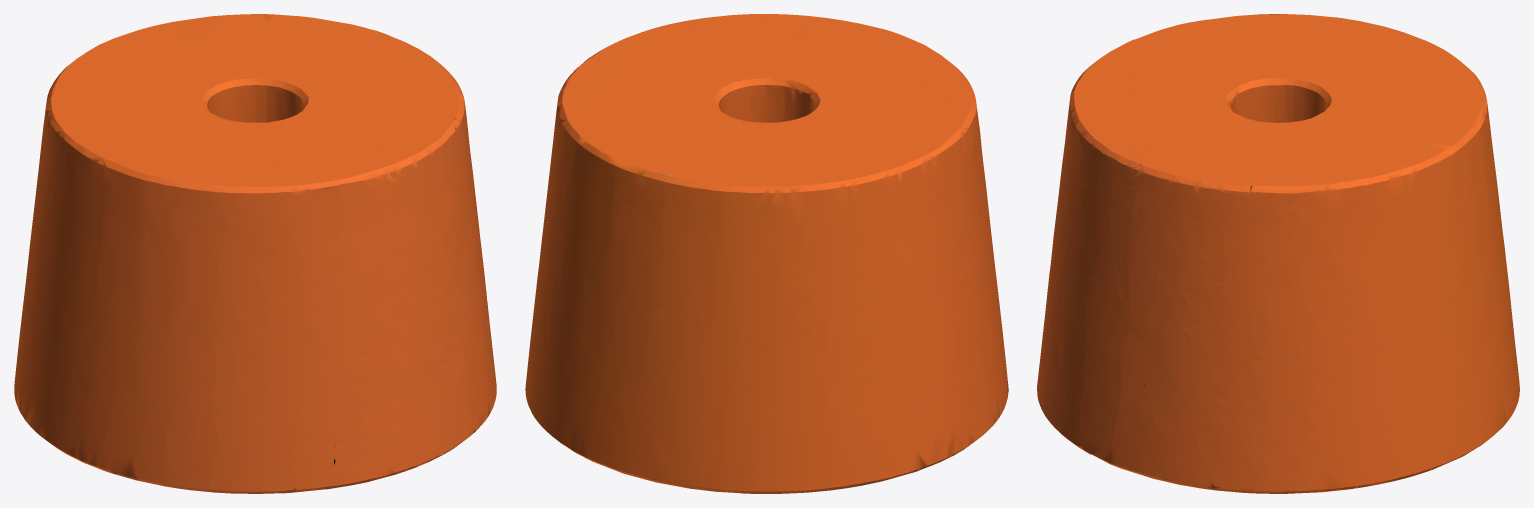
File: Meshy_AI_Rubber_Stopper_Remesh_0924171205_texture.glb
3 views of the same model, side by side, from view 1: azimuth 30°, elevation 25°; view 2: azimuth 150°, elevation 25°; view 3: azimuth 270°, elevation 25° (orthographic).
Visible parts, largest first — view 1: output_unwrapped; view 2: output_unwrapped; view 3: output_unwrapped.
Boxes of the visible parts, x1,y1,x2,y2 form: output_unwrapped: (14,14,496,493); output_unwrapped: (525,14,1008,493); output_unwrapped: (1037,14,1519,493).
Bounding box in the file's own units: 1.9 × 1.28 × 1.9.
Materials: 1 (1 with a texture image).
